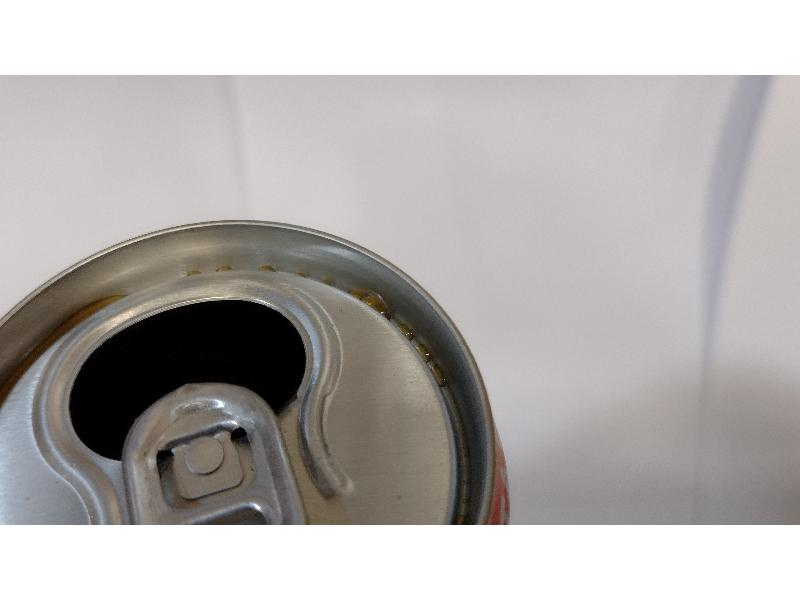can: (1, 203, 513, 521)
